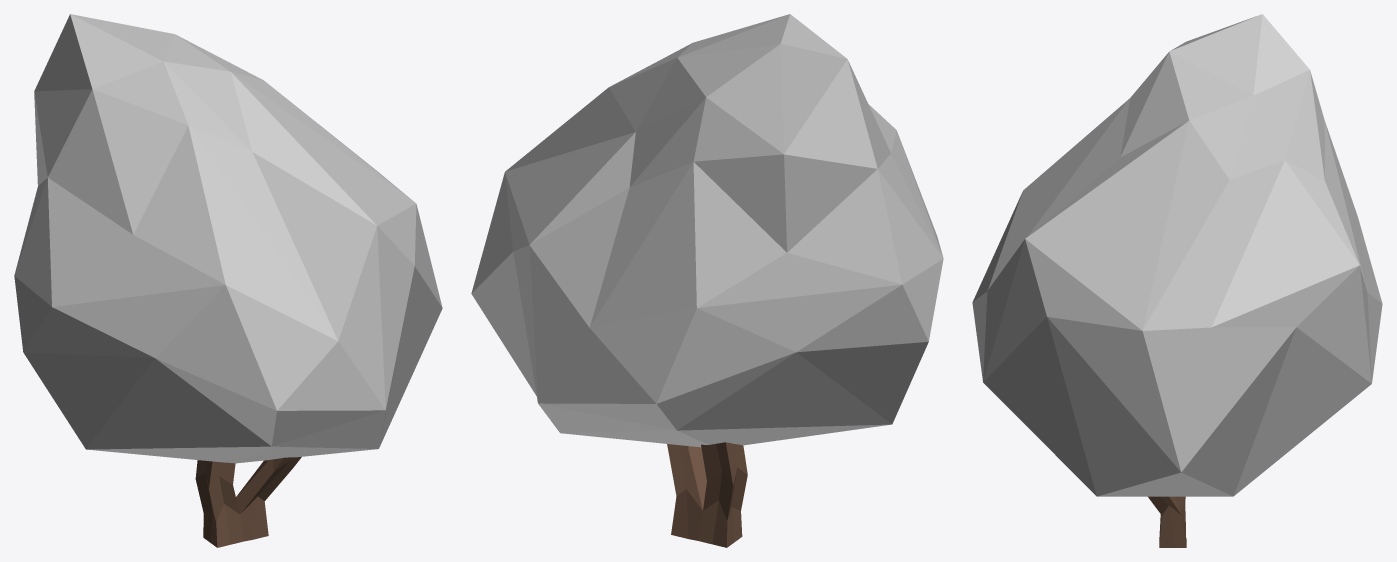
File: Tree_49_White.fbx
3 views of the same model, side by side, from view 1: azimuth 30°, elevation 25°; view 2: azimuth 150°, elevation 25°; view 3: azimuth 270°, elevation 25° (orthographic). The views are drawn at different scales.
Visible parts, largest first — view 1: Tree_49_White_Part_1, Tree_49_White_Part_2; view 2: Tree_49_White_Part_1, Tree_49_White_Part_2; view 3: Tree_49_White_Part_1, Tree_49_White_Part_2.
Boxes of the visible parts, x1,y1,x2,y2 form: Tree_49_White_Part_1: (14, 14, 442, 463); Tree_49_White_Part_2: (195, 457, 301, 547); Tree_49_White_Part_1: (471, 14, 943, 447); Tree_49_White_Part_2: (667, 442, 747, 547); Tree_49_White_Part_1: (972, 14, 1382, 496); Tree_49_White_Part_2: (1148, 496, 1186, 547).
Size of the model in its own units: 654 by 768 by 606.
